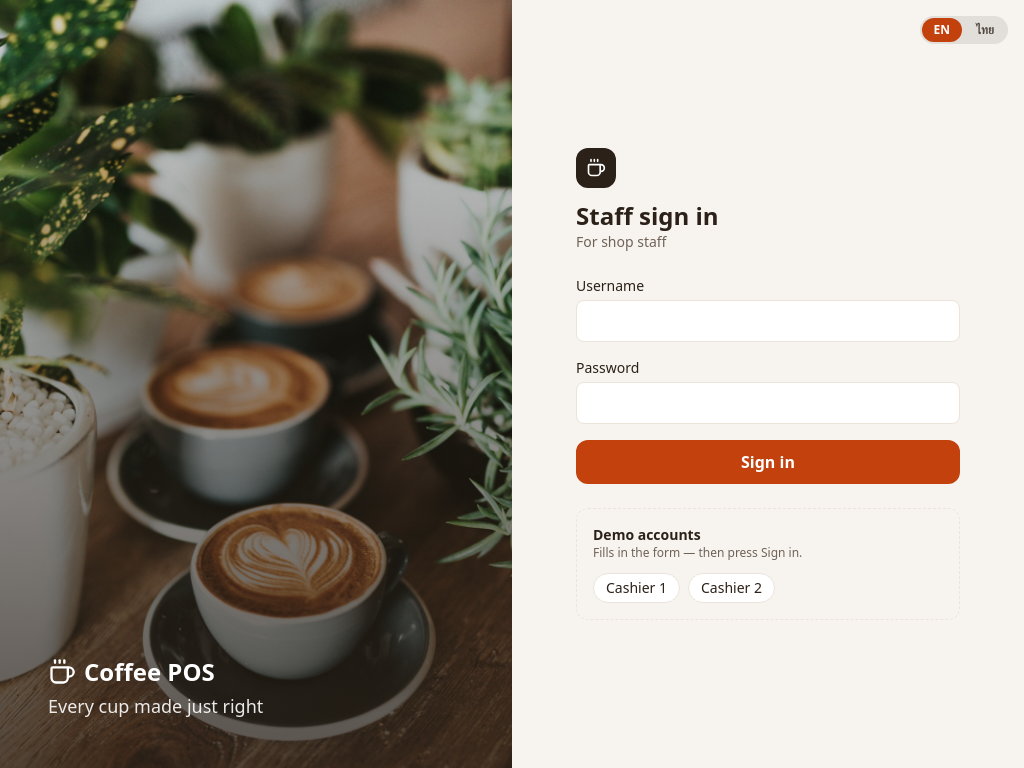
Test: LoginPage › switches the login page to Thai
Expected: the number of elements named "Language" is 1, top-left (920, 16), bottom-right (1008, 44)
Click the button "ไทย" at (985, 30), box top-left (964, 18), bottom-right (1006, 42)
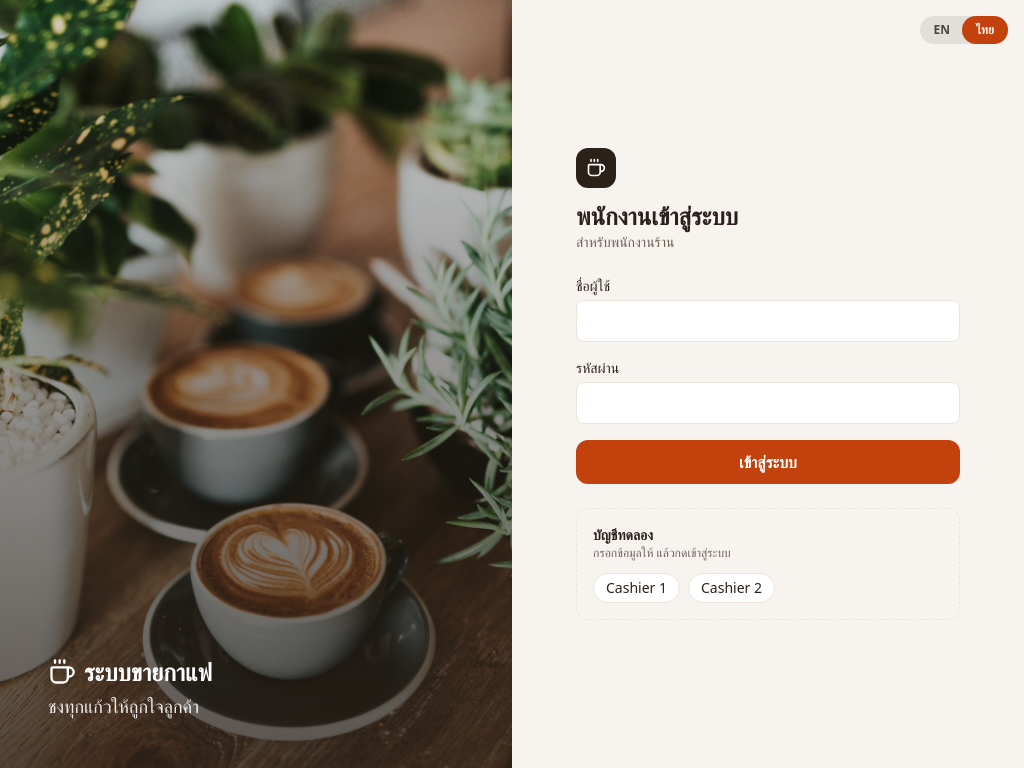
Result: the heading "พนักงานเข้าสู่ระบบ" is shown at top-left (576, 199), bottom-right (738, 232)
